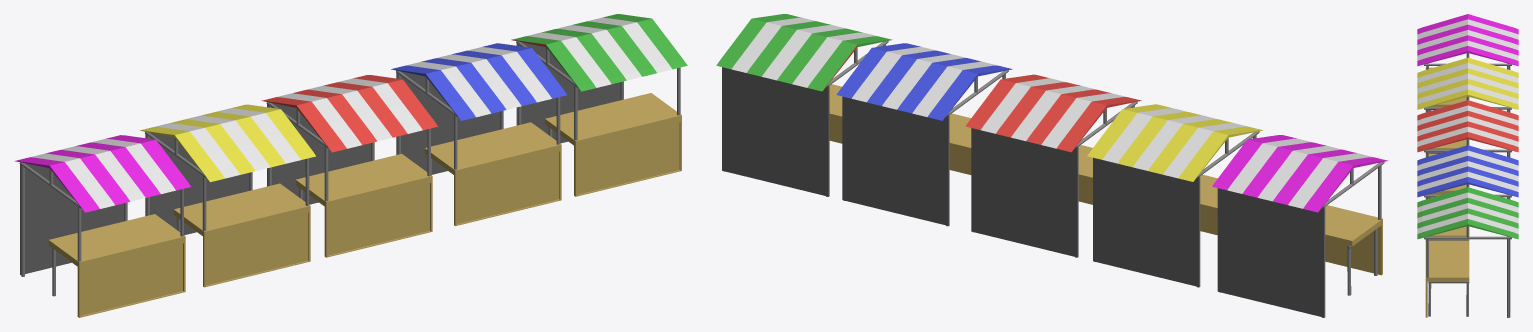
File: marktkraam2.fbx
3 renders of one model, left to right at view 1: azimuth 30°, elevation 25°; view 2: azimuth 150°, elevation 25°; view 3: azimuth 270°, elevation 25°, orthographic. The views are drawn at different scales.
Visible parts, largest first — view 1: Cylinder.039, Cylinder.014, Cube.011, Cylinder.005, Cylinder.041; view 2: Cylinder.039, Cylinder.014, Cube.011, Cylinder.005, Cylinder.041; view 3: Cylinder.041, Cylinder.014, Cylinder.005, Cube.011, Cylinder.039.
Boxes of the visible parts, left/top/right/bottom form: Cylinder.039: left=15, top=135, right=190, bottom=317; Cylinder.014: left=391, top=43, right=566, bottom=225; Cube.011: left=140, top=104, right=315, bottom=287; Cylinder.005: left=261, top=75, right=437, bottom=257; Cylinder.041: left=511, top=14, right=687, bottom=196; Cylinder.039: left=1212, top=135, right=1388, bottom=317; Cylinder.014: left=836, top=43, right=1012, bottom=226; Cube.011: left=1087, top=104, right=1262, bottom=287; Cylinder.005: left=965, top=74, right=1141, bottom=257; Cylinder.041: left=716, top=14, right=892, bottom=196; Cylinder.041: left=1417, top=187, right=1518, bottom=317; Cylinder.014: left=1417, top=145, right=1518, bottom=240; Cylinder.005: left=1417, top=100, right=1518, bottom=198; Cube.011: left=1417, top=57, right=1518, bottom=153; Cylinder.039: left=1417, top=14, right=1518, bottom=111.
Size of the model in its own units: 1134 by 237 by 230.
